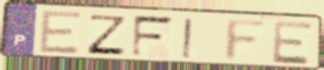E: (37, 8, 84, 56), (271, 19, 315, 66)
F: (222, 18, 271, 63), (129, 14, 177, 59)
I: (180, 17, 194, 61)
Z: (85, 13, 129, 57)
